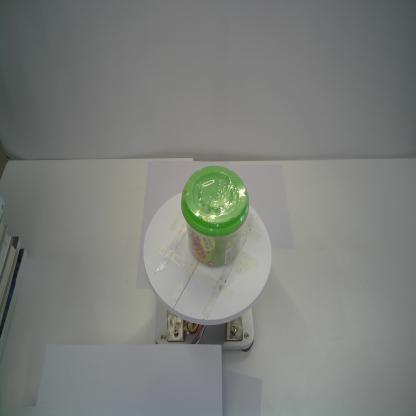Instant Drink: (179, 164, 252, 268)
